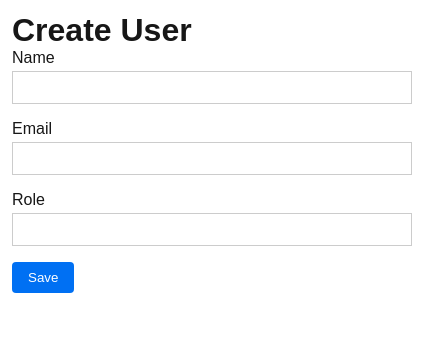
Test case: NewUserPage › shows error message on submit failure
The image size is (429, 360).
Type "John Doe" into the field labelled "Name" at (212, 88), box [12, 71, 412, 104]
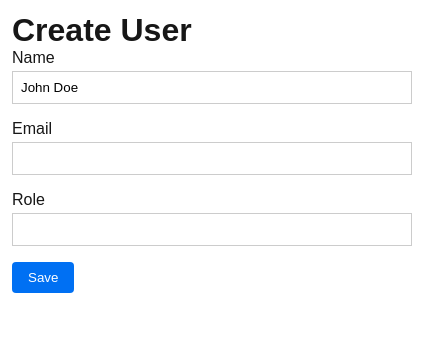
Type "john@example.com" into the field labelled "Email" at (212, 158), box [12, 142, 412, 175]
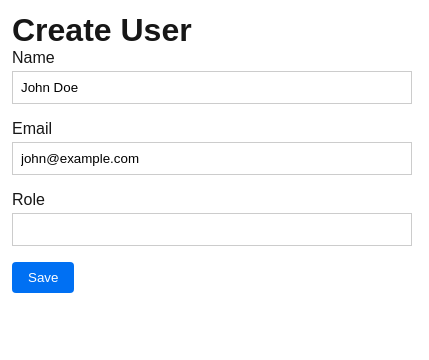
Type "Admin" into the field labelled "Role" at (212, 230), box [12, 213, 412, 246]
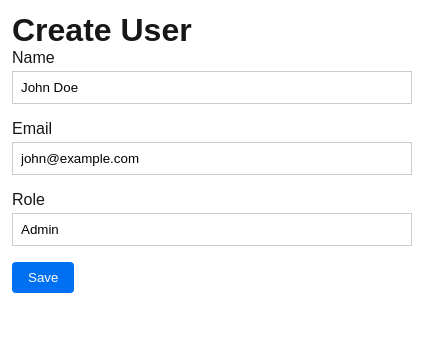
Click the button "Save" at (43, 278), box [12, 262, 74, 293]
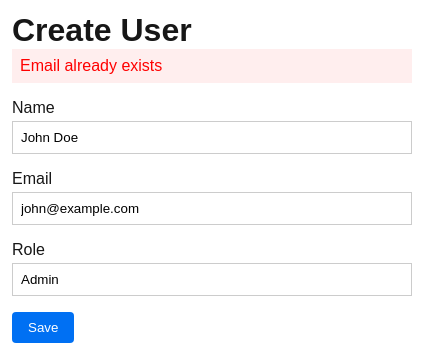
Result: the text "Email already exists" is shown at [12, 49, 412, 83]
